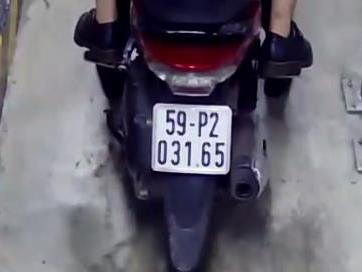num_plate: (151, 102, 232, 176)
